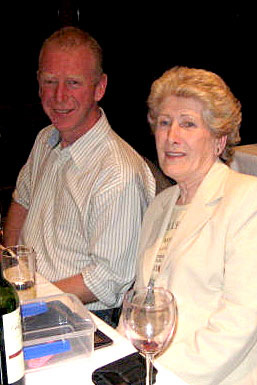without_mask: (139, 73, 248, 189), (28, 31, 114, 138)
